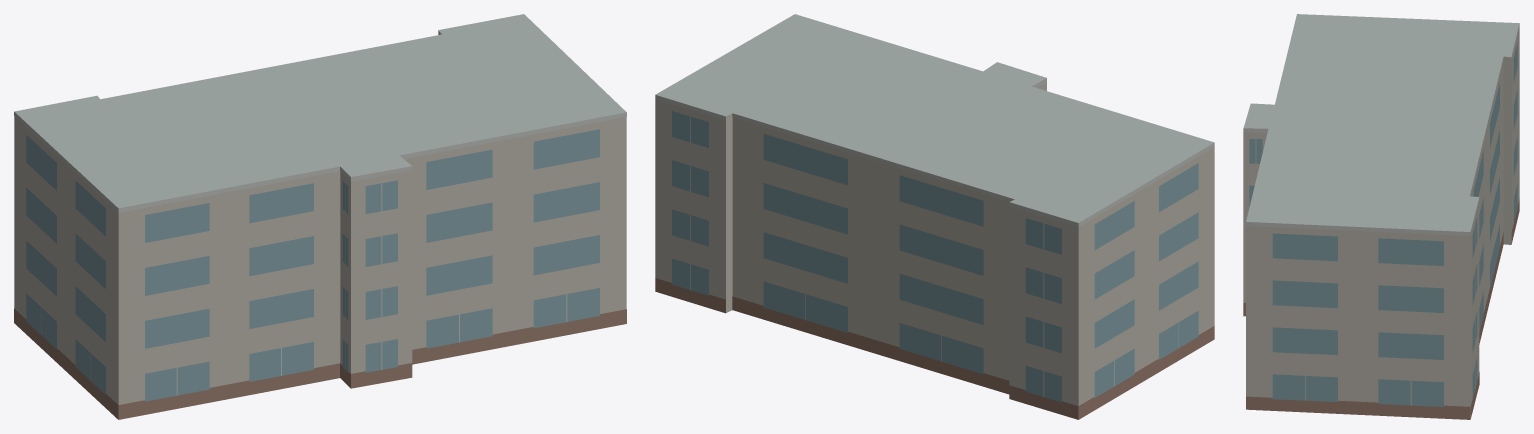
File: survey-upis-32500586.glb
3 views of the same model, side by side, from view 1: azimuth 30°, elevation 25°; view 2: azimuth 150°, elevation 25°; view 3: azimuth 270°, elevation 25° (orthographic). The views are drawn at different scales.
Parts seen in each view (by area): view 1: survey-upis-32500586.tmp; view 2: survey-upis-32500586.tmp; view 3: survey-upis-32500586.tmp.
Boxes of the visible parts, x1,y1,x2,y2 form: survey-upis-32500586.tmp: (14,14,626,419); survey-upis-32500586.tmp: (655,14,1214,419); survey-upis-32500586.tmp: (1243,14,1519,419).
Size of the model in its own units: 28.4 by 11.4 by 15.2.
